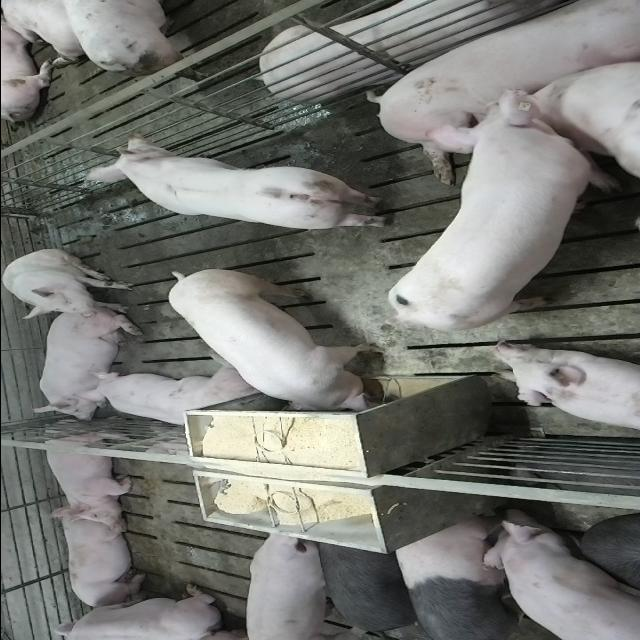Feeding: (166, 273, 390, 421)
Lateral_lying: (362, 2, 636, 188), (257, 0, 594, 103)
Sitting: (2, 249, 137, 320)
Standing: (388, 88, 628, 333), (82, 134, 396, 234), (473, 506, 640, 638), (386, 515, 562, 638), (550, 36, 637, 215), (245, 524, 346, 636), (312, 538, 418, 638)
Sternal_lying: (486, 343, 640, 435), (28, 314, 134, 422), (82, 368, 263, 430), (40, 584, 236, 638), (37, 426, 135, 524), (52, 511, 146, 610)
